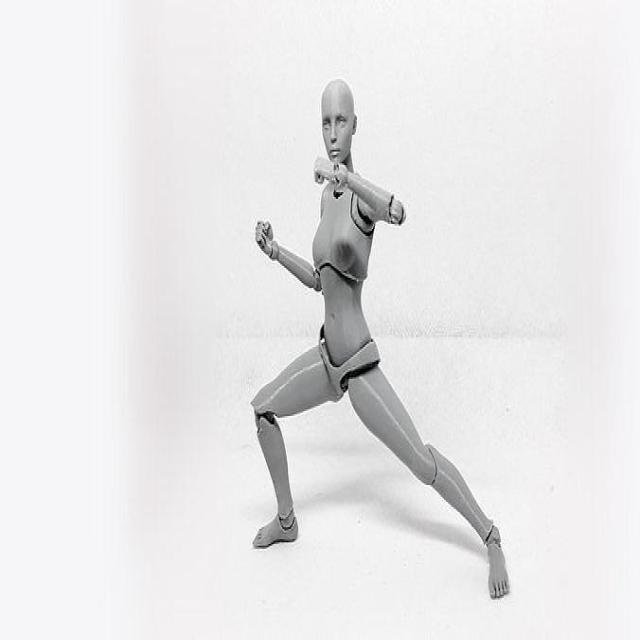Without deffect: (224, 57, 511, 600)
